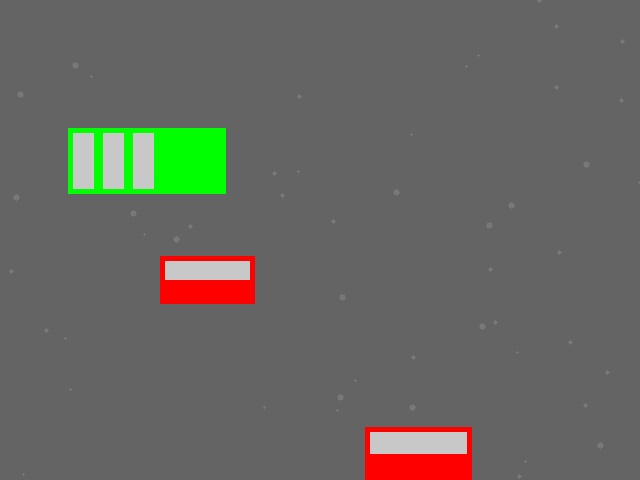bus: (68, 128, 225, 193)
car: (365, 427, 471, 480), (160, 256, 254, 303)
